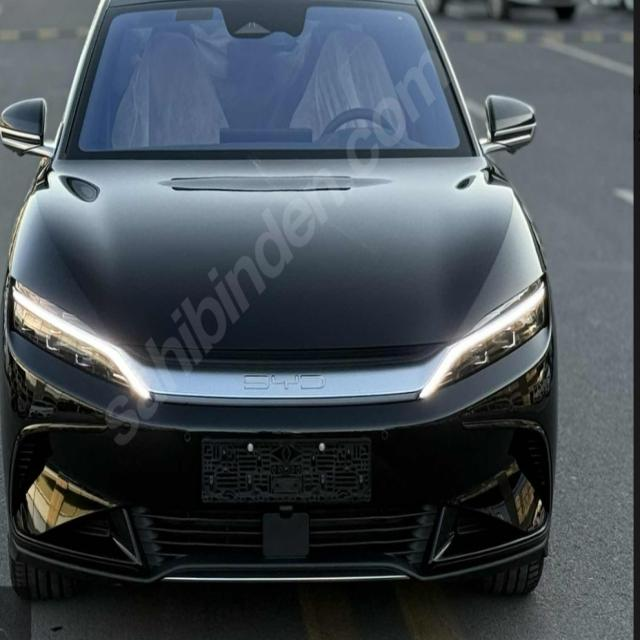byd: (231, 353, 334, 403)
